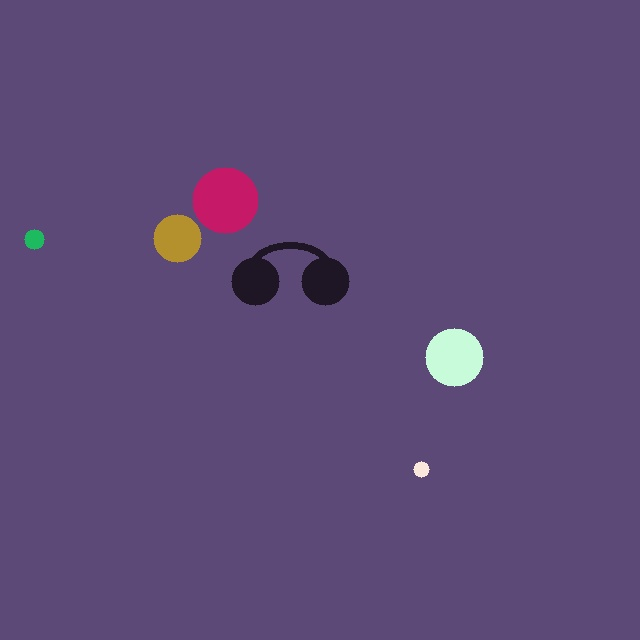over_ear: (227, 232, 353, 309)
